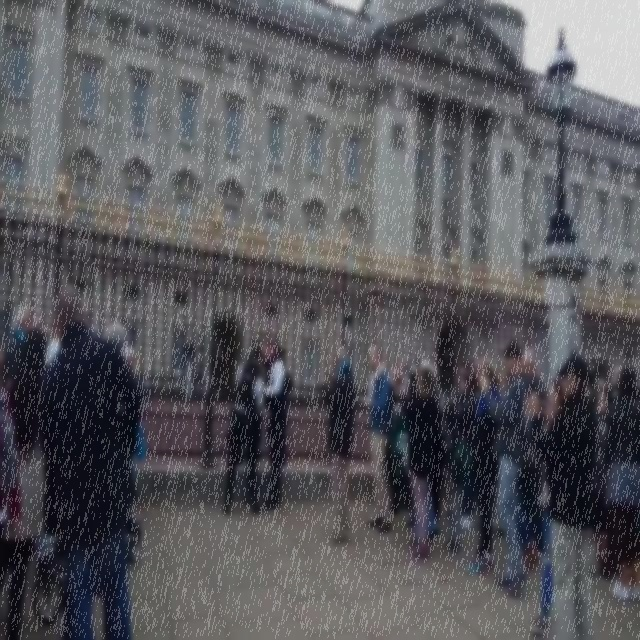pessoa: (34, 281, 144, 639), (525, 350, 600, 639), (477, 340, 530, 600), (527, 377, 563, 634), (217, 342, 266, 518), (466, 354, 502, 584), (254, 332, 296, 514), (319, 345, 356, 547), (610, 362, 640, 604), (400, 364, 437, 558), (360, 340, 394, 536), (381, 356, 417, 530), (429, 350, 457, 500), (491, 363, 513, 544), (590, 386, 610, 582), (442, 400, 465, 558), (456, 372, 477, 530), (1, 303, 33, 394), (43, 306, 67, 374), (17, 324, 49, 370), (521, 348, 547, 402), (447, 362, 472, 415), (592, 360, 614, 406), (582, 352, 598, 404), (107, 322, 127, 354), (472, 360, 482, 418), (121, 344, 138, 372), (610, 361, 622, 398), (518, 348, 526, 378), (634, 379, 640, 409)
